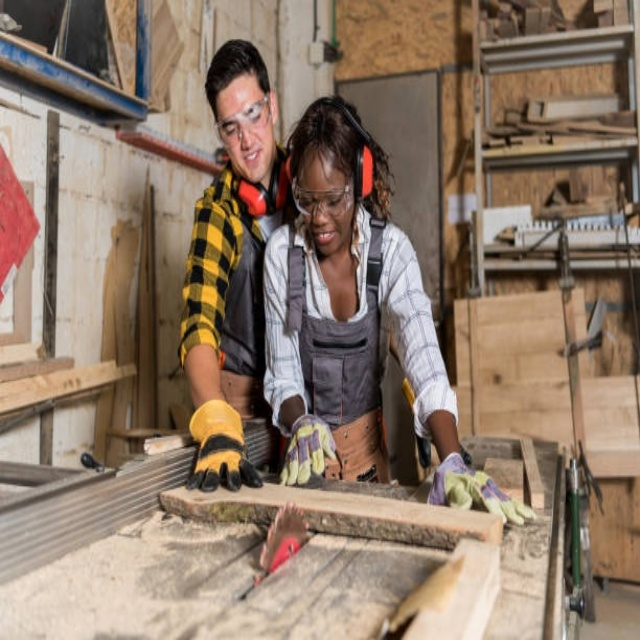Gafas: (292, 174, 355, 221), (216, 94, 269, 145)
Guantes: (429, 453, 535, 524), (187, 397, 261, 491), (280, 413, 338, 487)
Sin_mascara: (237, 146, 262, 177), (311, 226, 338, 253)
